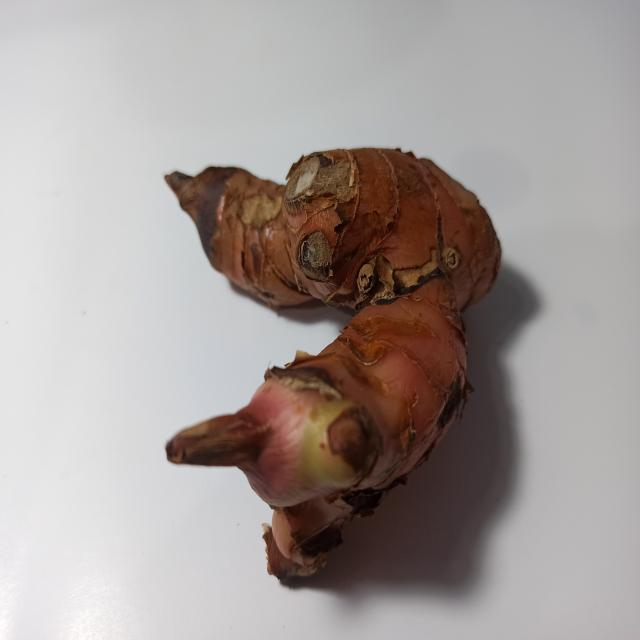ginger: (162, 94, 496, 521)
